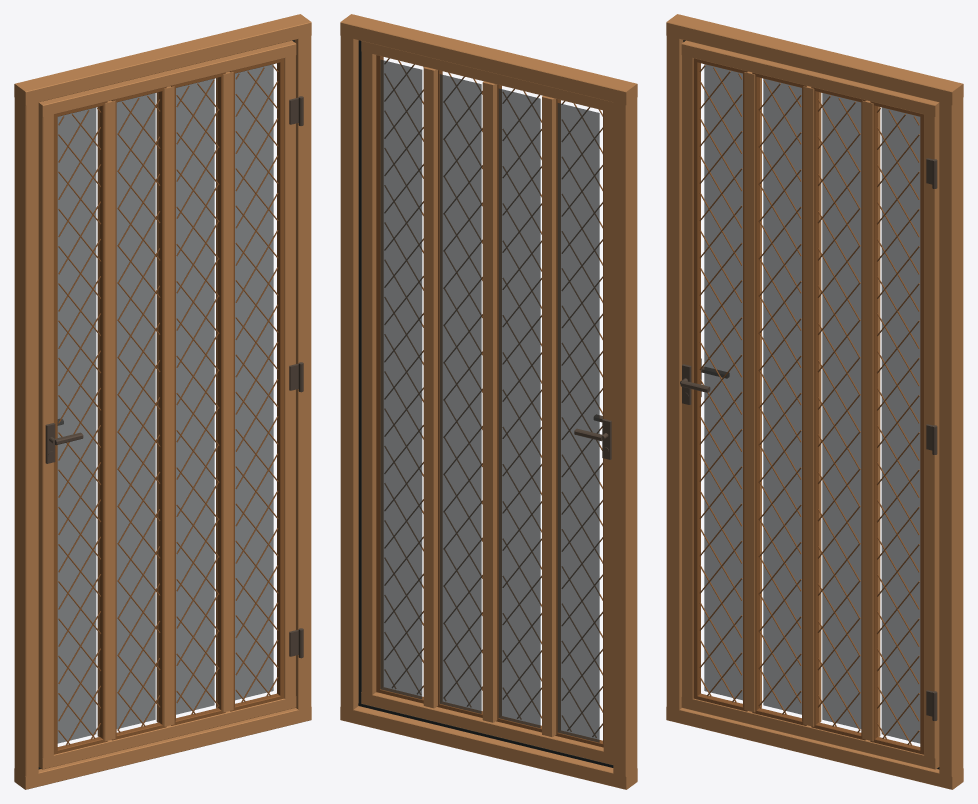
The model's file is wood-finish-multi-panel-screen-door-01.glb.
3 renders of one model, left to right at view 1: azimuth 30°, elevation 25°; view 2: azimuth 150°, elevation 25°; view 3: azimuth 330°, elevation 25°, orthographic.
Visible parts, largest first — view 1: Outer jamb, Vertical mullions, Door leaf, Panel 2 insect mesh, Panel 1 insect mesh, Panel 4 insect mesh, Panel 3 insect mesh, Panel 4 trim, Panel 1 trim, Panel 2 trim, Panel 3 trim, Panel 4 security grille (+5 smaller); view 2: Outer jamb, Vertical mullions, Panel 2 insect mesh, Panel 4 insect mesh, Panel 3 insect mesh, Panel 1 insect mesh, Door leaf, Panel 4 trim, Panel 1 trim, Weather seal, Panel 2 trim, Panel 3 trim (+4 smaller); view 3: Outer jamb, Vertical mullions, Door leaf, Panel 3 insect mesh, Panel 4 insect mesh, Panel 2 insect mesh, Panel 1 insect mesh, Panel 1 trim, Panel 4 trim, Panel 3 trim, Panel 2 trim, Panel 4 security grille (+5 smaller).
Boxes of the visible parts, x1,y1,x2,y2 form: Outer jamb: [14, 14, 311, 789]; Vertical mullions: [97, 71, 233, 741]; Door leaf: [38, 40, 296, 769]; Panel 2 insect mesh: [116, 93, 155, 728]; Panel 1 insect mesh: [57, 107, 96, 743]; Panel 4 insect mesh: [235, 64, 273, 700]; Panel 3 insect mesh: [176, 78, 214, 714]; Panel 4 trim: [230, 58, 284, 711]; Panel 1 trim: [54, 101, 107, 754]; Panel 2 trim: [111, 87, 166, 740]; Panel 3 trim: [171, 72, 225, 725]; Panel 4 security grille: [235, 65, 278, 702]; Outer jamb: [340, 14, 637, 789]; Vertical mullions: [423, 67, 556, 737]; Panel 2 insect mesh: [498, 88, 540, 728]; Panel 4 insect mesh: [380, 59, 422, 699]; Panel 3 insect mesh: [439, 74, 481, 713]; Panel 1 insect mesh: [557, 103, 599, 742]; Door leaf: [361, 41, 613, 764]; Panel 4 trim: [376, 55, 423, 703]; Panel 1 trim: [555, 99, 603, 747]; Weather seal: [358, 40, 613, 767]; Panel 2 trim: [496, 84, 541, 732]; Panel 3 trim: [437, 70, 482, 717]; Outer jamb: [666, 14, 963, 789]; Vertical mullions: [744, 71, 880, 741]; Door leaf: [681, 40, 939, 769]; Panel 3 insect mesh: [822, 93, 861, 728]; Panel 4 insect mesh: [881, 107, 920, 743]; Panel 2 insect mesh: [763, 78, 801, 714]; Panel 1 insect mesh: [704, 64, 742, 700]; Panel 1 trim: [693, 58, 747, 711]; Panel 4 trim: [870, 101, 923, 754]; Panel 3 trim: [811, 87, 866, 740]; Panel 2 trim: [752, 72, 806, 725]; Panel 4 security grille: [877, 108, 919, 745].
Bounding box in the file's own units: 0.9 × 2.1 × 0.123.
